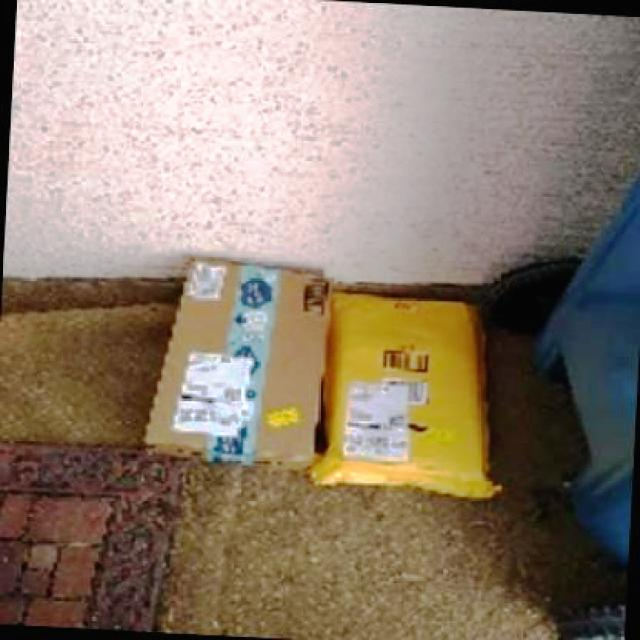Box: (312, 294, 516, 500), (144, 252, 331, 471)
